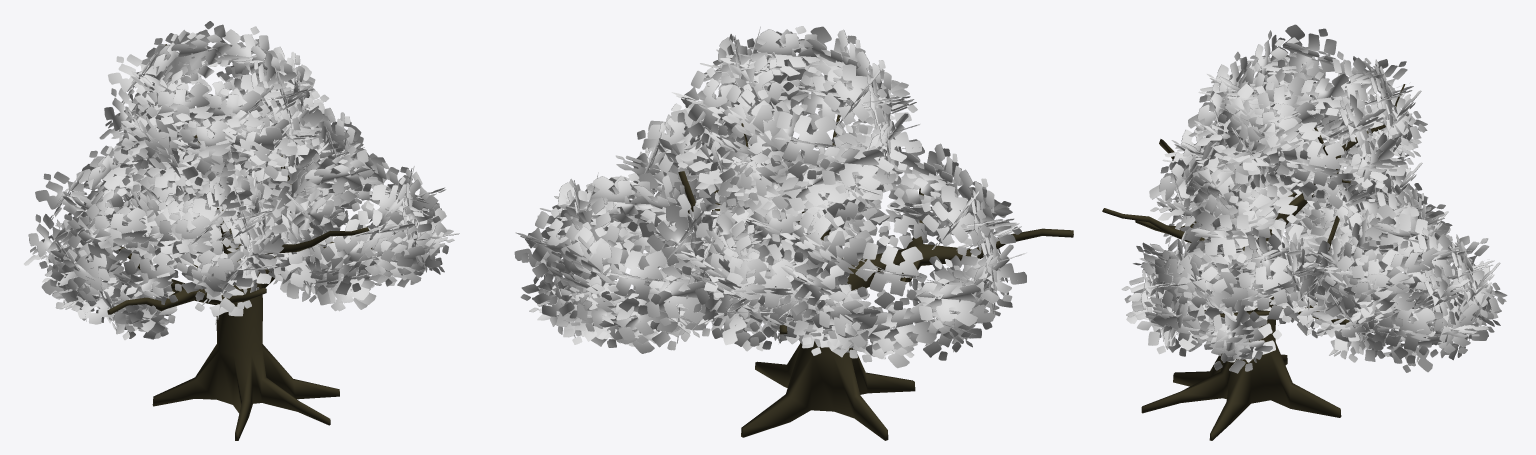
The model's file is Tree Test 2.fbx.
The picture shows the model from 3 angles, left to right: view 1: azimuth 30°, elevation 25°; view 2: azimuth 150°, elevation 25°; view 3: azimuth 270°, elevation 25°; orthographic projection. The views are drawn at different scales.
Visible parts, largest first — view 1: Tree 4 Finished; view 2: Tree 4 Finished; view 3: Tree 4 Finished.
Boxes of the visible parts, box(x1,y1,x2,y2) form: Tree 4 Finished: box(24, 21, 459, 440); Tree 4 Finished: box(514, 26, 1073, 440); Tree 4 Finished: box(1102, 24, 1507, 440).
Size of the model in its own units: 782 by 650 by 685.
